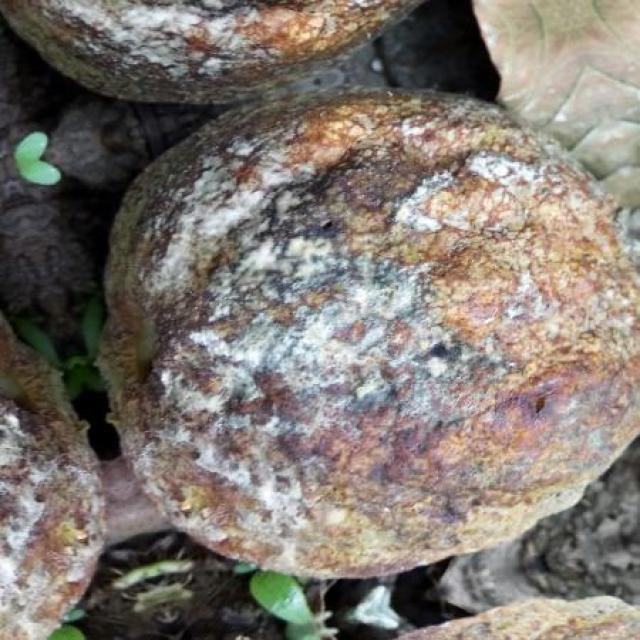Phytopthora: (102, 92, 640, 577), (0, 1, 422, 103), (0, 314, 105, 639)
